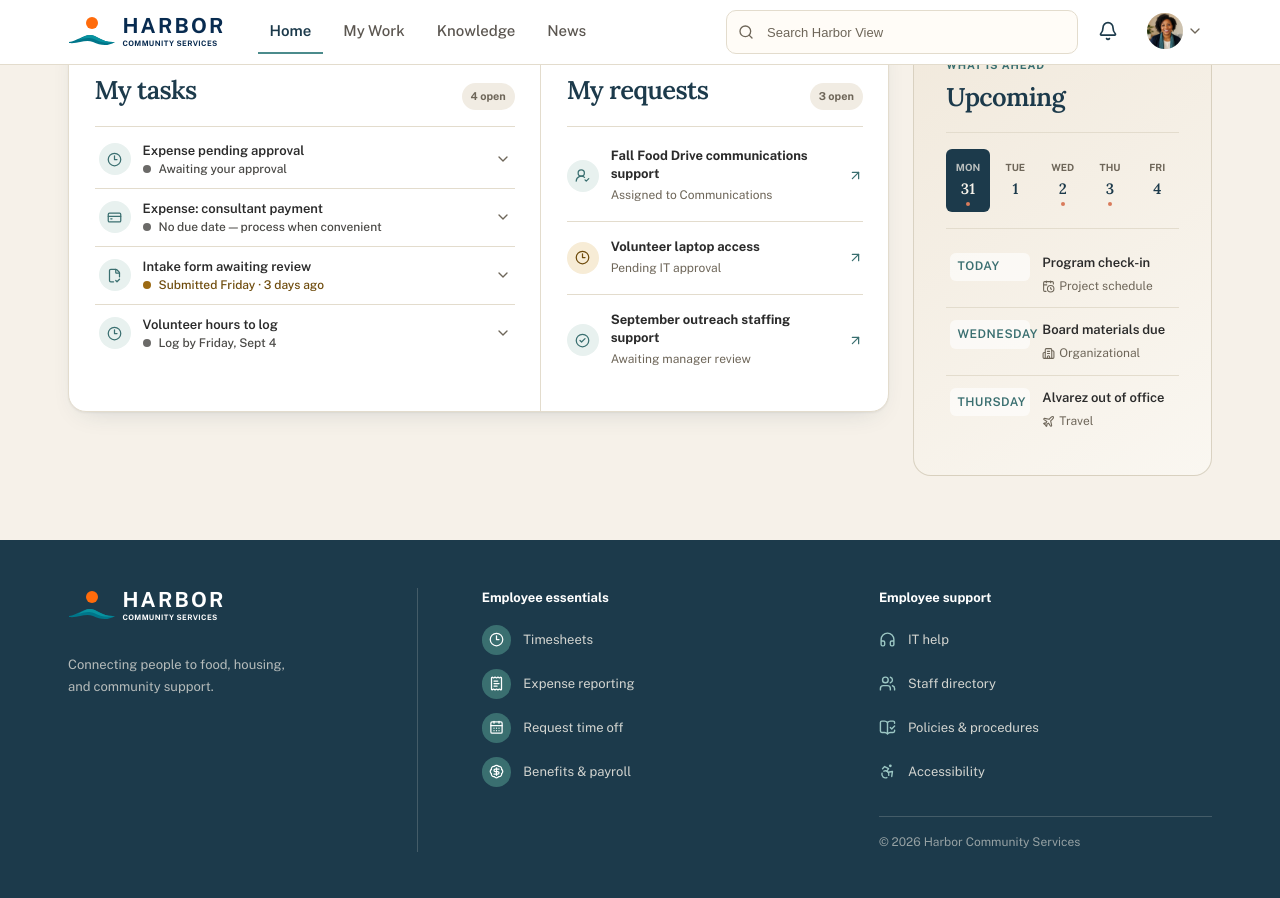
it: Knowledge journeys › links the footer expense essential to the guide
(page scrolled)
Click the link "Expense reporting".
click(558, 684)  # box top-left (482, 668), bottom-right (634, 700)
(page scrolled)
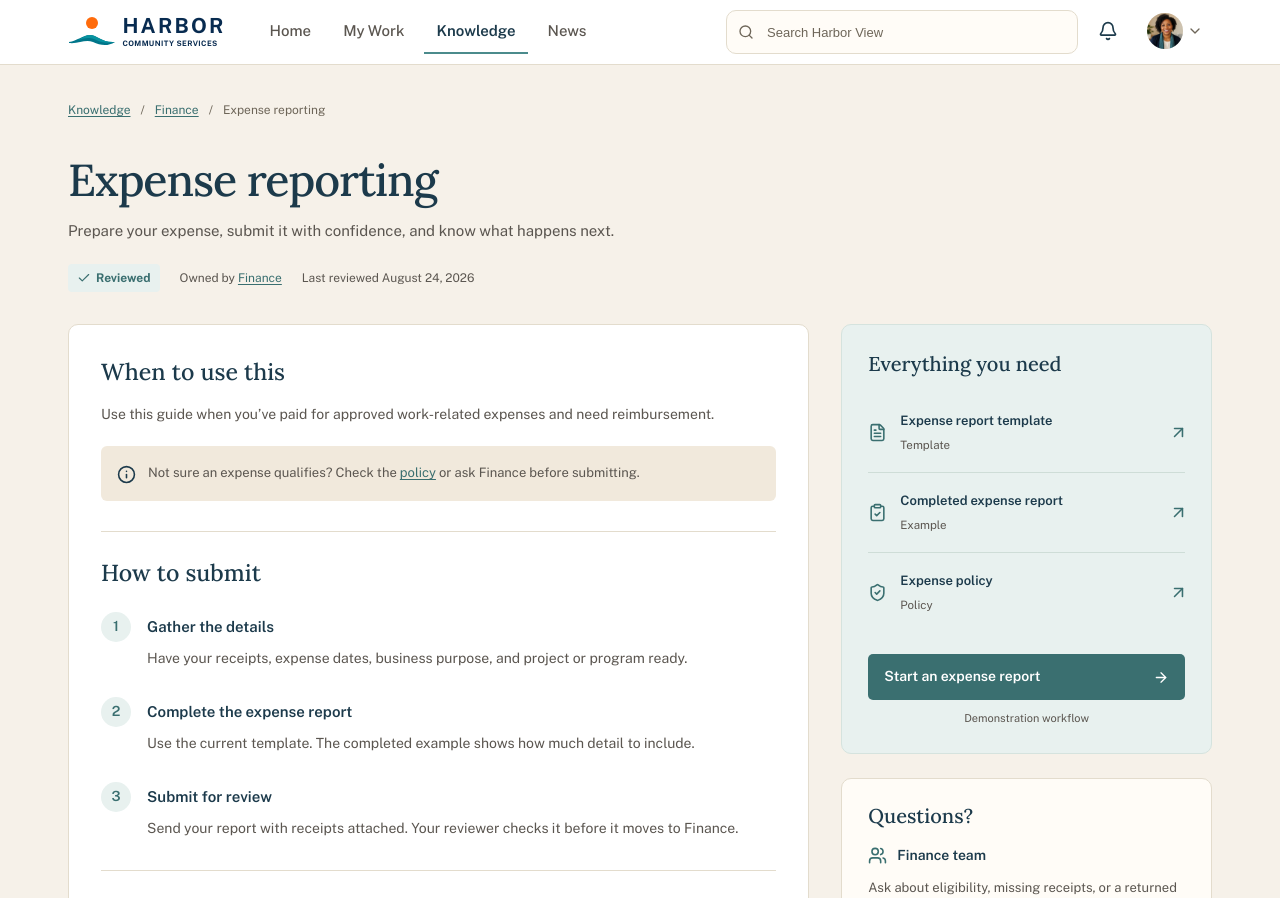
Now the heading "Expense reporting" is shown, box top-left (68, 151), bottom-right (437, 208)
